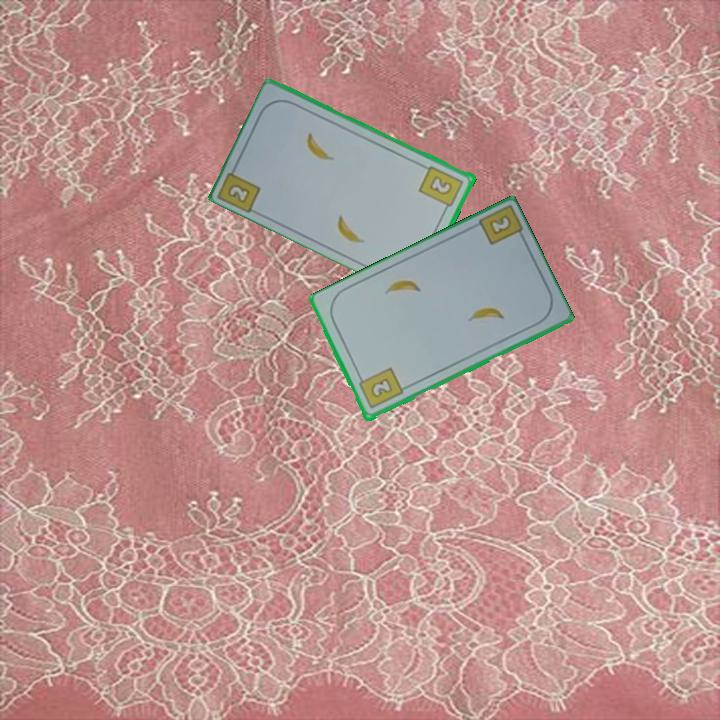2b: (216, 159, 264, 215), (416, 162, 466, 214), (355, 364, 406, 412), (485, 212, 514, 238)
